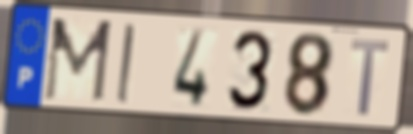3: (224, 27, 278, 115)
4: (169, 26, 214, 111)
8: (280, 29, 336, 119)
I: (114, 21, 137, 107)
M: (40, 16, 115, 105)
T: (348, 35, 393, 119)
